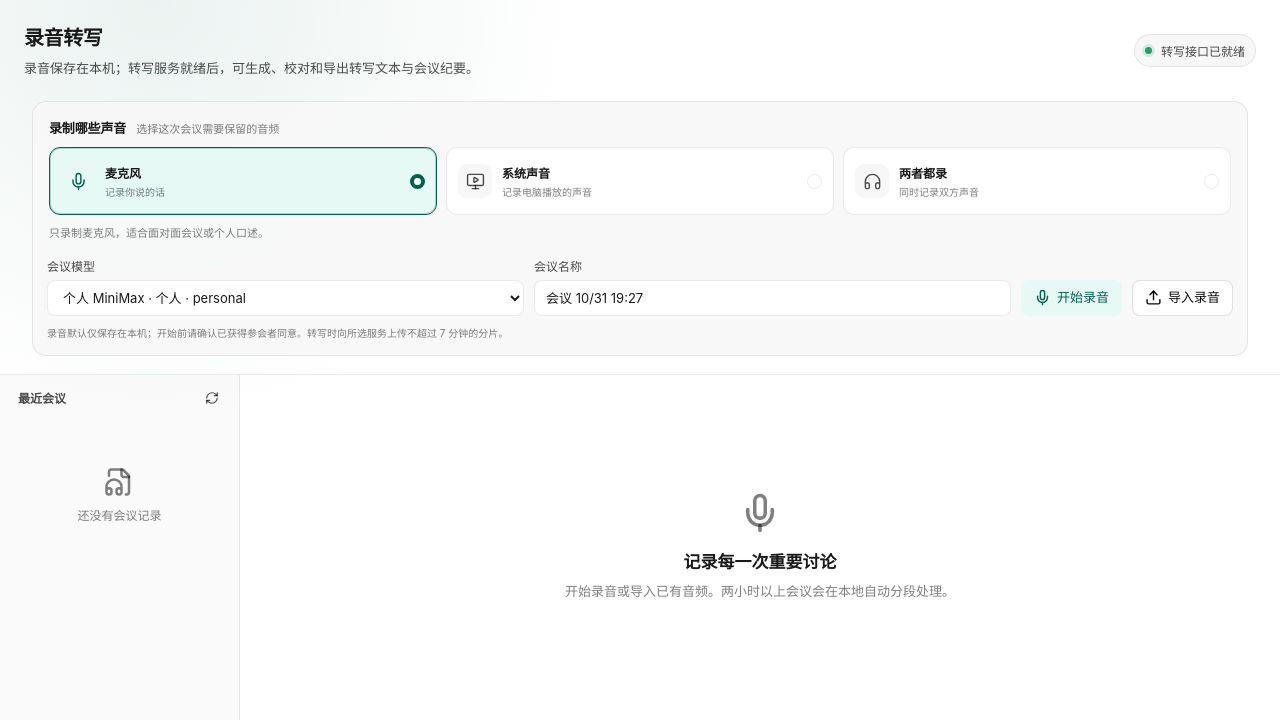
Test: MeetingMinutesPanel connection capability › uses the actual transcription check for personal and organization compatible gateways
This screenshot has width=1280, height=720.
Expected: the text "转写接口已就绪" is shown, [1161,42,1245,59]
Expected: the button "开始录音" is enabled, [1021,280,1122,316]
Select "组织 MiniMax · 组织 · echoagent-organization" in the dropdown labelled "会议模型": (286, 298) [47,280,524,316]
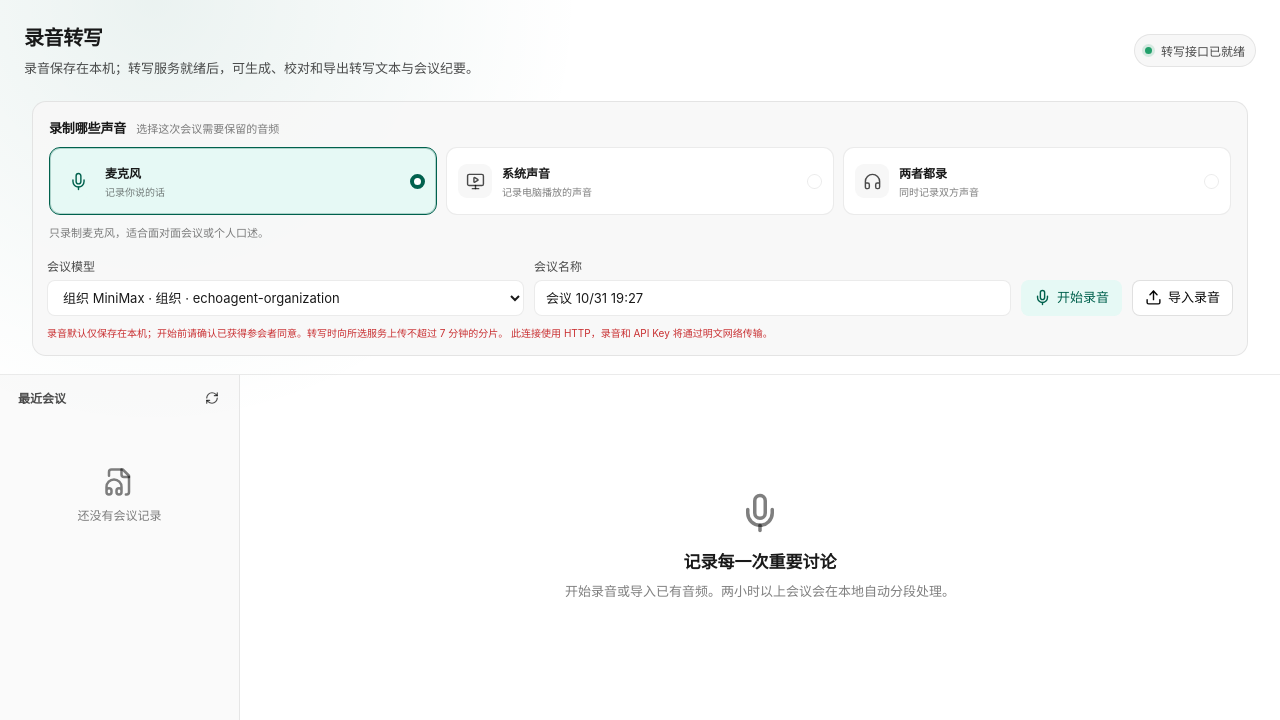
Expected: the button "开始录音" is enabled, [1021,280,1122,316]
Result: the text "录音和 API Key 将通过明文网络传输" is shown at [508,326,773,338]
